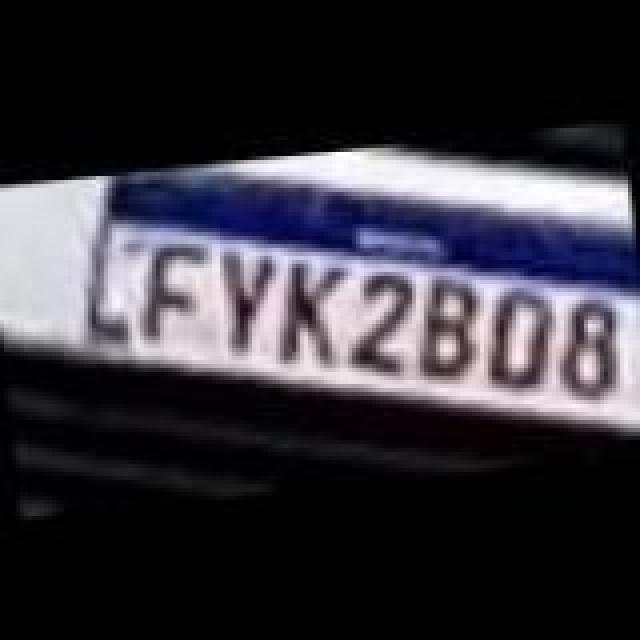2: (346, 264, 422, 372)
8: (554, 292, 630, 404)
B: (408, 270, 488, 382)
D: (480, 280, 560, 392)
F: (132, 232, 220, 348)
K: (280, 256, 352, 368)
Y: (210, 240, 286, 356)
